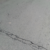zebra: (1, 3, 49, 49)
